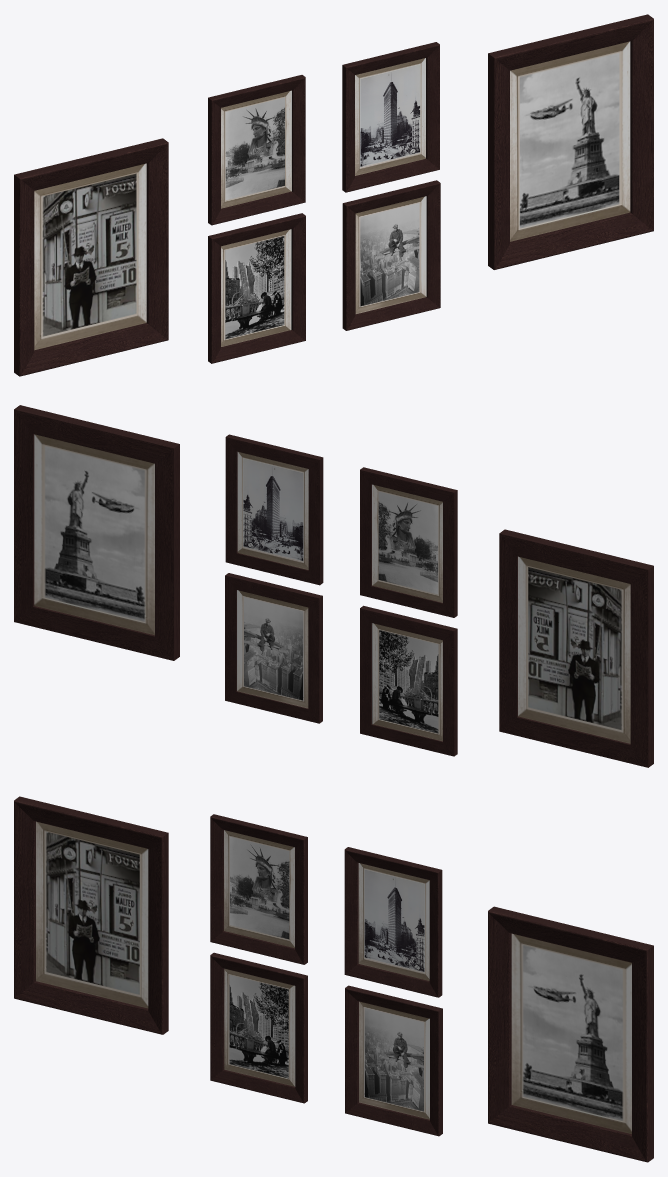
File: Pictures 1.FBX
The picture shows the model from 3 angles, top to bottom: view 1: azimuth 30°, elevation 25°; view 2: azimuth 150°, elevation 25°; view 3: azimuth 330°, elevation 25°; orthographic projection.
Parts seen in each view (by area): view 1: Pictures 1; view 2: Pictures 1; view 3: Pictures 1.
Part boxes in pixels (x1,y1,x2,y2): Pictures 1: [14, 14, 653, 376]; Pictures 1: [14, 405, 653, 767]; Pictures 1: [14, 796, 653, 1162].
Size of the model in its own units: 151 by 60.01 by 2.65.
2 materials, 2 textured.
